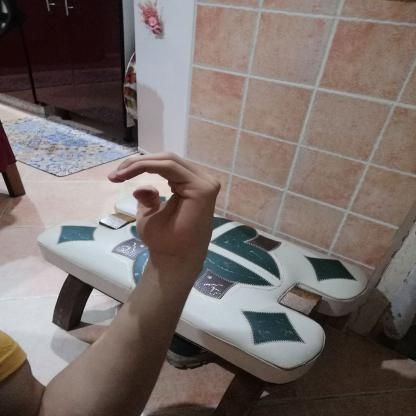JEEM: (95, 144, 235, 275)
